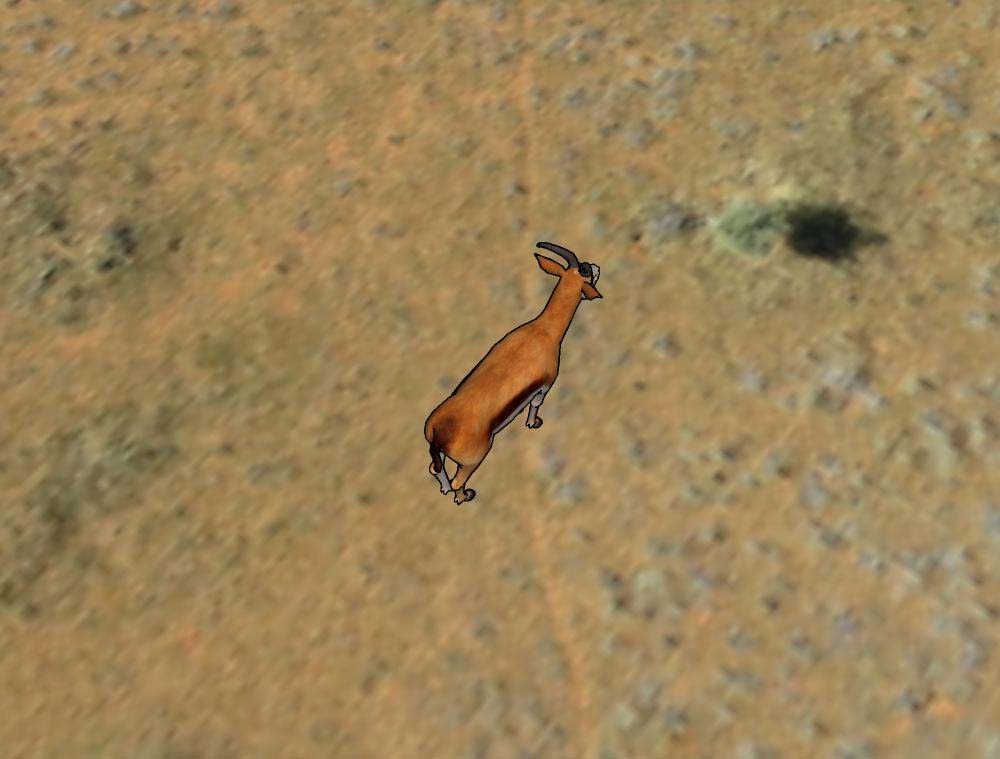springbok: (420, 240, 604, 505)
